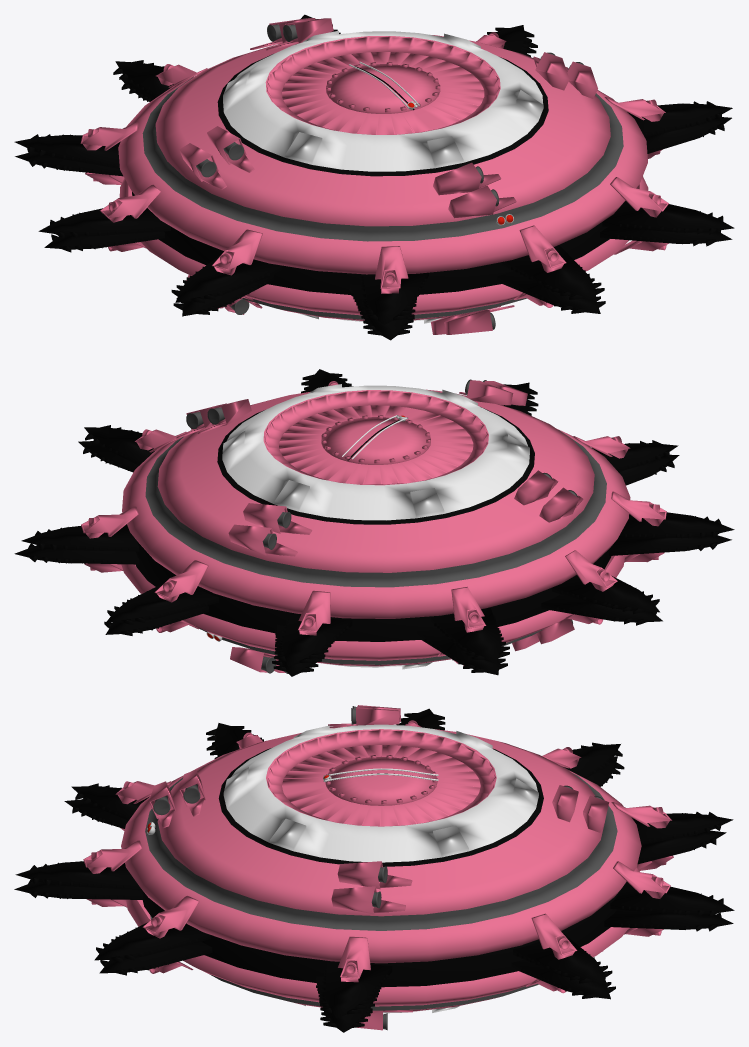
The model's file is Bug.fbx.
3 renders of one model, top to bottom at view 1: azimuth 30°, elevation 25°; view 2: azimuth 150°, elevation 25°; view 3: azimuth 270°, elevation 25°, orthographic. The views are drawn at different scales.
Visible parts, largest first — view 1: Bug; view 2: Bug; view 3: Bug.
Part boxes in pixels (x1=…): Bug: x1=14, y1=14, x2=734, y2=340; Bug: x1=14, y1=369, x2=734, y2=676; Bug: x1=14, y1=705, x2=734, y2=1032.
Bounding box in the file's own units: 256 × 74.95 × 251.
